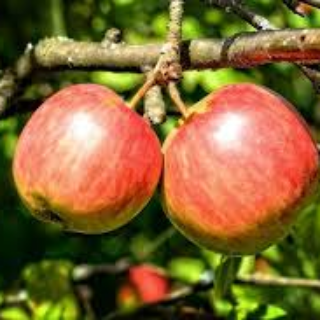tao: (158, 82, 318, 257), (7, 81, 165, 236)
